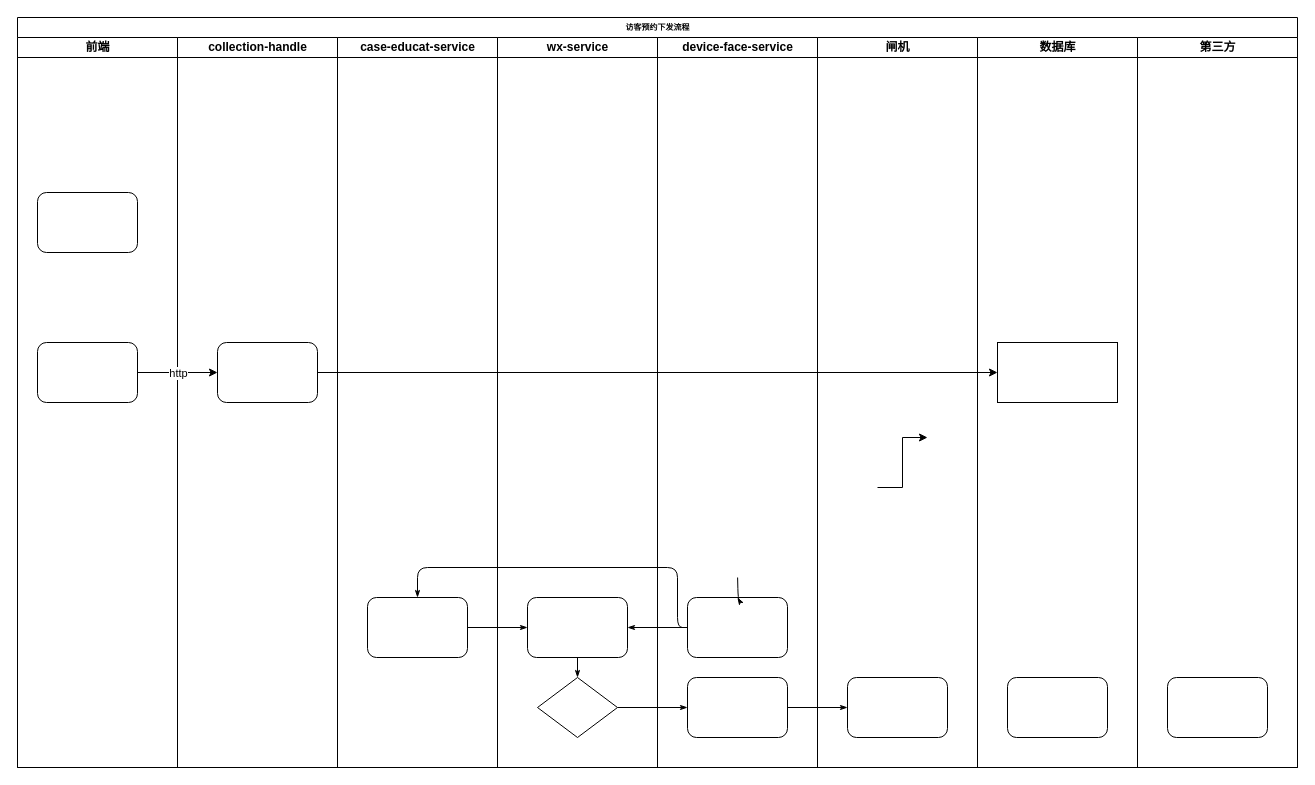
Image size: 1315x785. Some labels were removed from this diagram. Here are the shapes that lost their labels. From the top down, the centre of each, then its label:
At (x=87, y=222): "公众号访客预约".
At (x=87, y=372): "访客机访客签到/签离".
At (x=1057, y=372): "签到：t_ylt_pass 签离：t_ylt_record".
